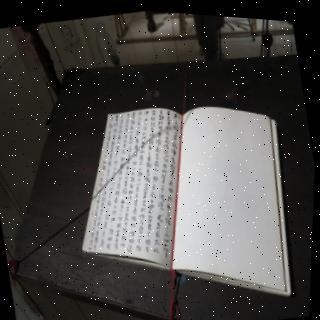book: (53, 59, 307, 320)
